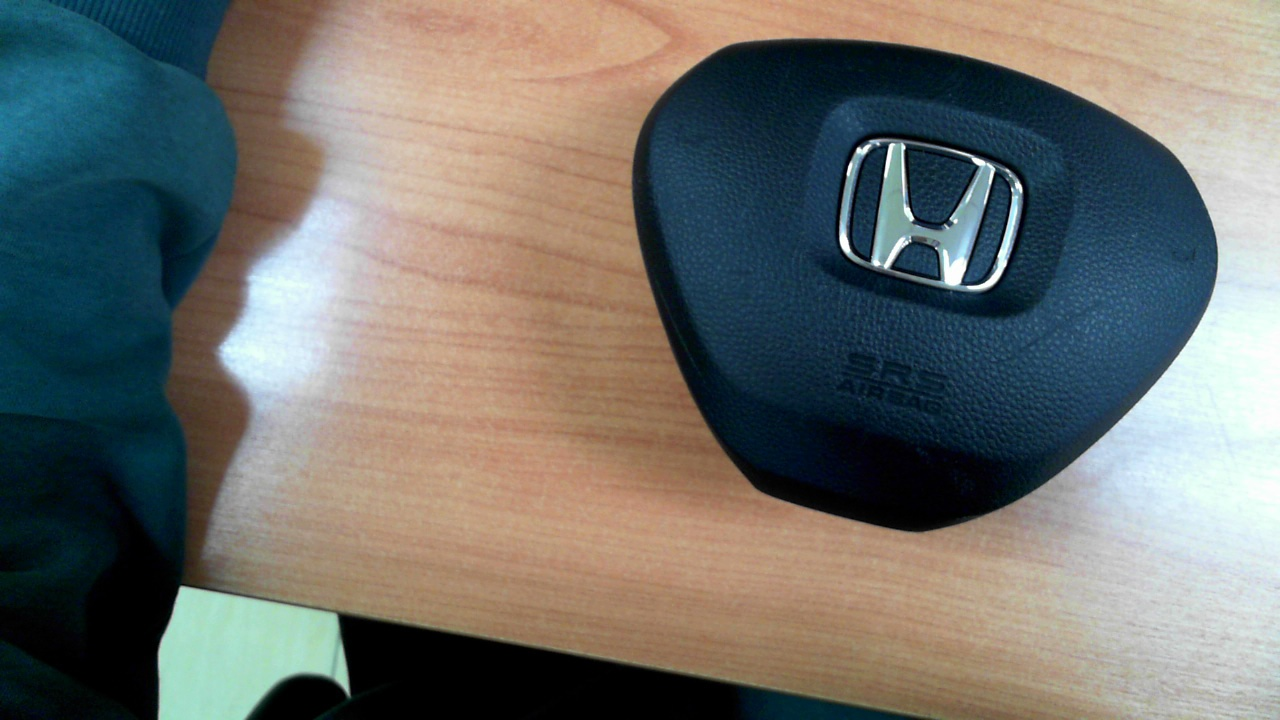Airbag: (615, 41, 1235, 540)
Honda: (838, 137, 1024, 292)
